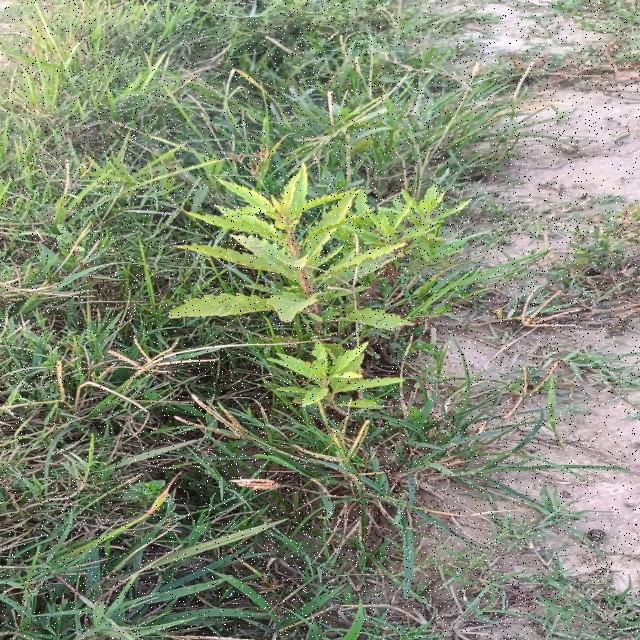weed: (169, 165, 467, 342), (268, 340, 405, 411)
